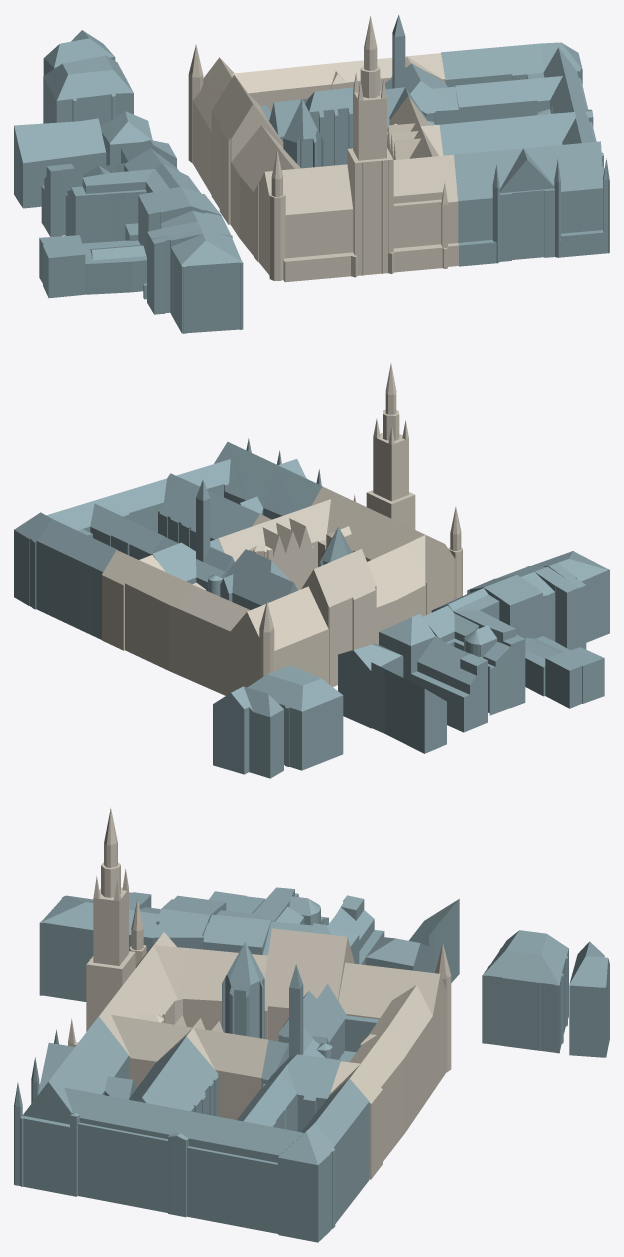
The model's file is muenchner-rathaus-35m.glb.
The picture shows the model from 3 angles, top to bottom: view 1: azimuth 30°, elevation 25°; view 2: azimuth 150°, elevation 25°; view 3: azimuth 270°, elevation 25°; orthographic projection. The views are drawn at different scales.
Parts seen in each view (by area): view 1: primary_DEBY_LOD2_4957695, neighbor_DEBY_LOD2_4957703, neighbor_DEBY_LOD2_4956886, neighbor_DEBY_LOD2_107805678, neighbor_DEBY_LOD2_4957698, neighbor_DEBY_LOD2_4956894, neighbor_DEBY_LOD2_4956902, neighbor_DEBY_LOD2_4956909, neighbor_DEBY_LOD2_4957701, neighbor_DEBY_LOD2_4956898, neighbor_DEBY_LOD2_4957696, neighbor_DEBY_LOD2_4956888 (+4 smaller); view 2: primary_DEBY_LOD2_4957695, neighbor_DEBY_LOD2_4957703, neighbor_DEBY_LOD2_107805678, neighbor_DEBY_LOD2_4957698, neighbor_DEBY_LOD2_4956909, neighbor_DEBY_LOD2_4956913, neighbor_DEBY_LOD2_4956902, neighbor_DEBY_LOD2_4956898, neighbor_DEBY_LOD2_4957701, neighbor_DEBY_LOD2_4956897, neighbor_DEBY_LOD2_4956886, neighbor_DEBY_LOD2_4956903 (+4 smaller); view 3: neighbor_DEBY_LOD2_4957703, primary_DEBY_LOD2_4957695, neighbor_DEBY_LOD2_4956909, neighbor_DEBY_LOD2_4957698, neighbor_DEBY_LOD2_4956886, neighbor_DEBY_LOD2_4957701, neighbor_DEBY_LOD2_4956913, neighbor_DEBY_LOD2_4957696, neighbor_DEBY_LOD2_107805678, neighbor_DEBY_LOD2_4956894, neighbor_DEBY_LOD2_4956902, neighbor_DEBY_LOD2_4956903 (+5 smaller).
Boxes of the visible parts, bbox=[...] form: primary_DEBY_LOD2_4957695: bbox=[188, 16, 458, 282]; neighbor_DEBY_LOD2_4957703: bbox=[441, 42, 609, 266]; neighbor_DEBY_LOD2_4956886: bbox=[151, 228, 243, 333]; neighbor_DEBY_LOD2_107805678: bbox=[39, 186, 221, 298]; neighbor_DEBY_LOD2_4957698: bbox=[269, 14, 458, 166]; neighbor_DEBY_LOD2_4956894: bbox=[71, 163, 200, 243]; neighbor_DEBY_LOD2_4956902: bbox=[14, 118, 106, 208]; neighbor_DEBY_LOD2_4956909: bbox=[43, 55, 133, 126]; neighbor_DEBY_LOD2_4957701: bbox=[439, 113, 562, 155]; neighbor_DEBY_LOD2_4956898: bbox=[41, 163, 125, 236]; neighbor_DEBY_LOD2_4957696: bbox=[283, 99, 323, 168]; neighbor_DEBY_LOD2_4956888: bbox=[143, 210, 232, 309]; primary_DEBY_LOD2_4957695: bbox=[102, 363, 462, 695]; neighbor_DEBY_LOD2_4957703: bbox=[14, 438, 322, 639]; neighbor_DEBY_LOD2_107805678: bbox=[467, 574, 604, 708]; neighbor_DEBY_LOD2_4957698: bbox=[146, 479, 297, 609]; neighbor_DEBY_LOD2_4956909: bbox=[247, 665, 343, 770]; neighbor_DEBY_LOD2_4956913: bbox=[213, 686, 283, 778]; neighbor_DEBY_LOD2_4956902: bbox=[371, 662, 446, 753]; neighbor_DEBY_LOD2_4956898: bbox=[411, 636, 487, 732]; neighbor_DEBY_LOD2_4957701: bbox=[158, 478, 263, 551]; neighbor_DEBY_LOD2_4956897: bbox=[423, 605, 510, 715]; neighbor_DEBY_LOD2_4956886: bbox=[531, 551, 609, 649]; neighbor_DEBY_LOD2_4956903: bbox=[338, 643, 403, 728]; neighbor_DEBY_LOD2_4957703: bbox=[14, 1016, 369, 1242]; primary_DEBY_LOD2_4957695: bbox=[68, 808, 451, 1179]; neighbor_DEBY_LOD2_4956909: bbox=[482, 930, 568, 1053]; neighbor_DEBY_LOD2_4957698: bbox=[261, 964, 346, 1132]; neighbor_DEBY_LOD2_4956886: bbox=[39, 892, 131, 1001]; neighbor_DEBY_LOD2_4957701: bbox=[104, 1036, 218, 1116]; neighbor_DEBY_LOD2_4956913: bbox=[569, 941, 609, 1057]; neighbor_DEBY_LOD2_4957696: bbox=[222, 942, 264, 1038]; neighbor_DEBY_LOD2_107805678: bbox=[153, 891, 265, 949]; neighbor_DEBY_LOD2_4956894: bbox=[203, 887, 298, 954]; neighbor_DEBY_LOD2_4956902: bbox=[409, 899, 459, 982]; neighbor_DEBY_LOD2_4956903: bbox=[365, 937, 428, 972].
Bounding box in the file's own units: 190 × 79.55 × 157.
